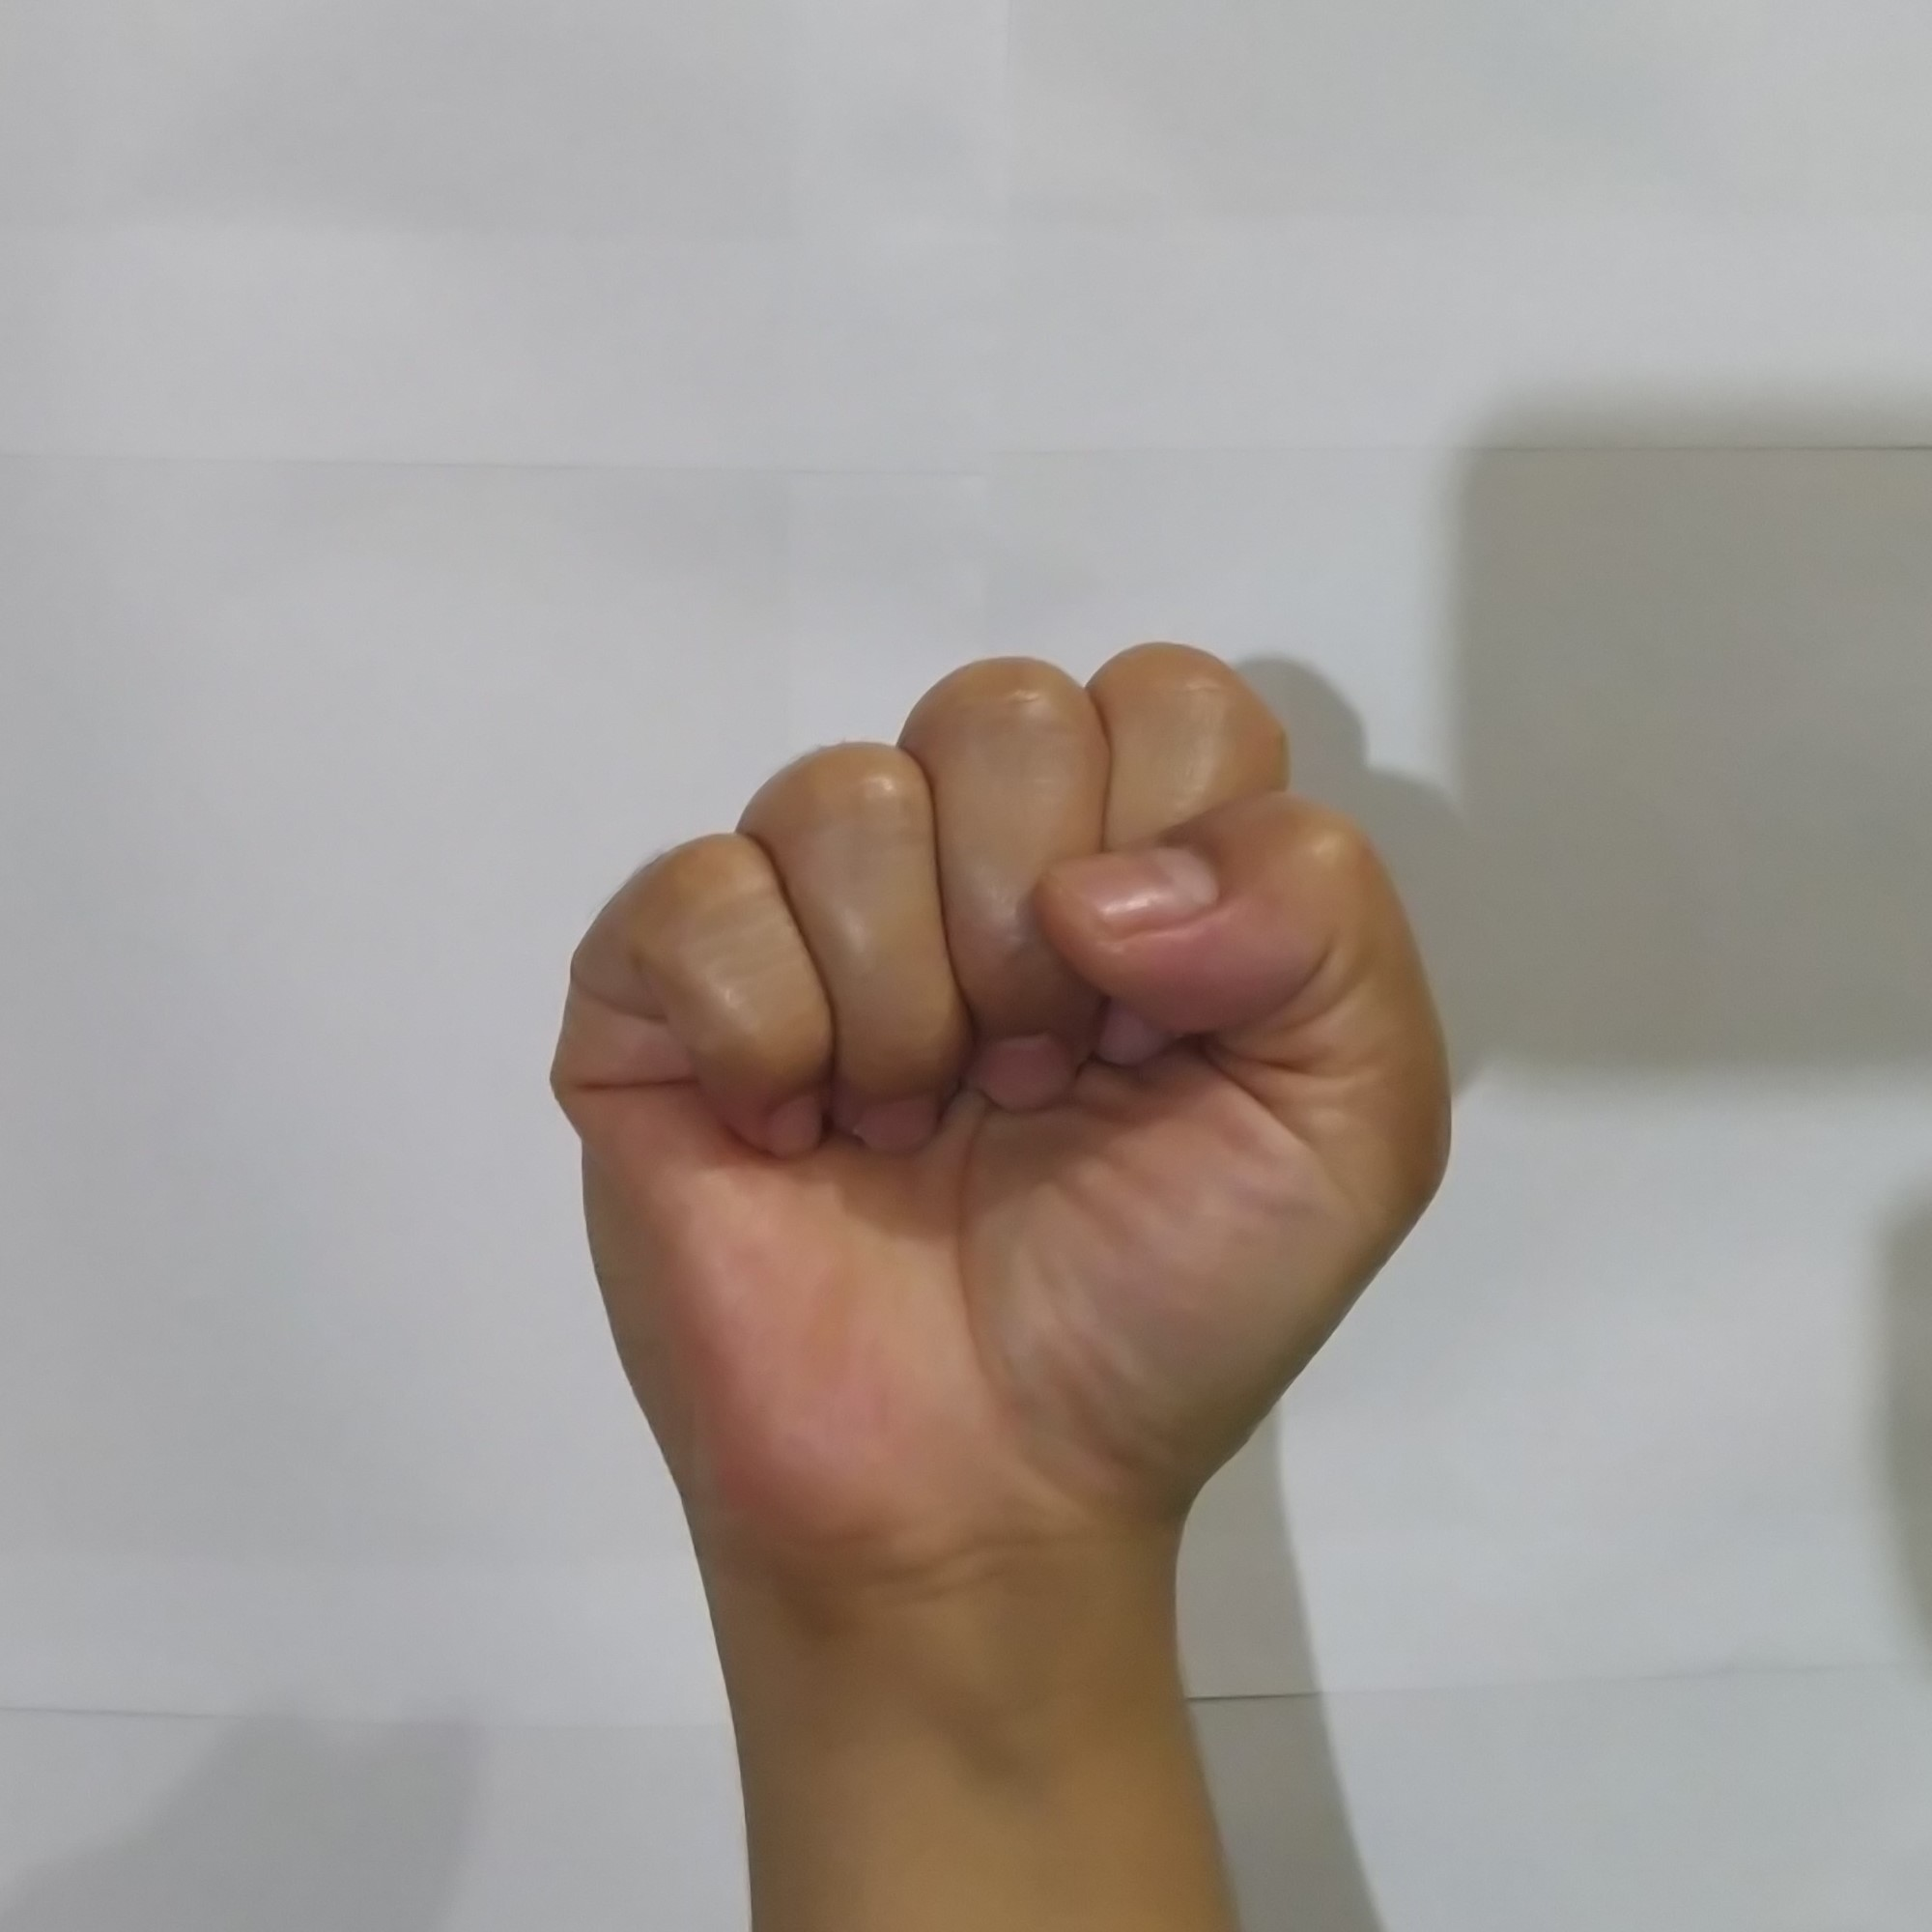S: (527, 610, 1477, 1566)
